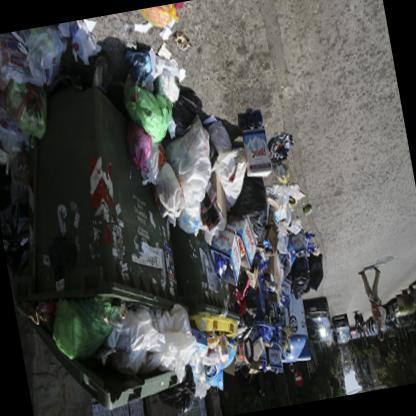Garbage: (114, 23, 215, 191), (203, 183, 322, 289), (157, 122, 255, 226), (61, 306, 192, 368), (0, 29, 53, 174), (0, 18, 107, 88), (229, 274, 298, 373), (186, 318, 243, 390), (280, 237, 326, 300)
